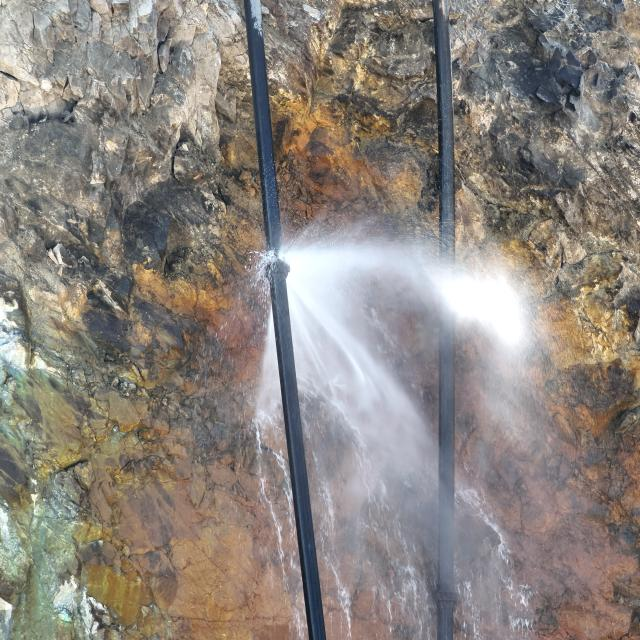leak: (224, 207, 548, 640)
